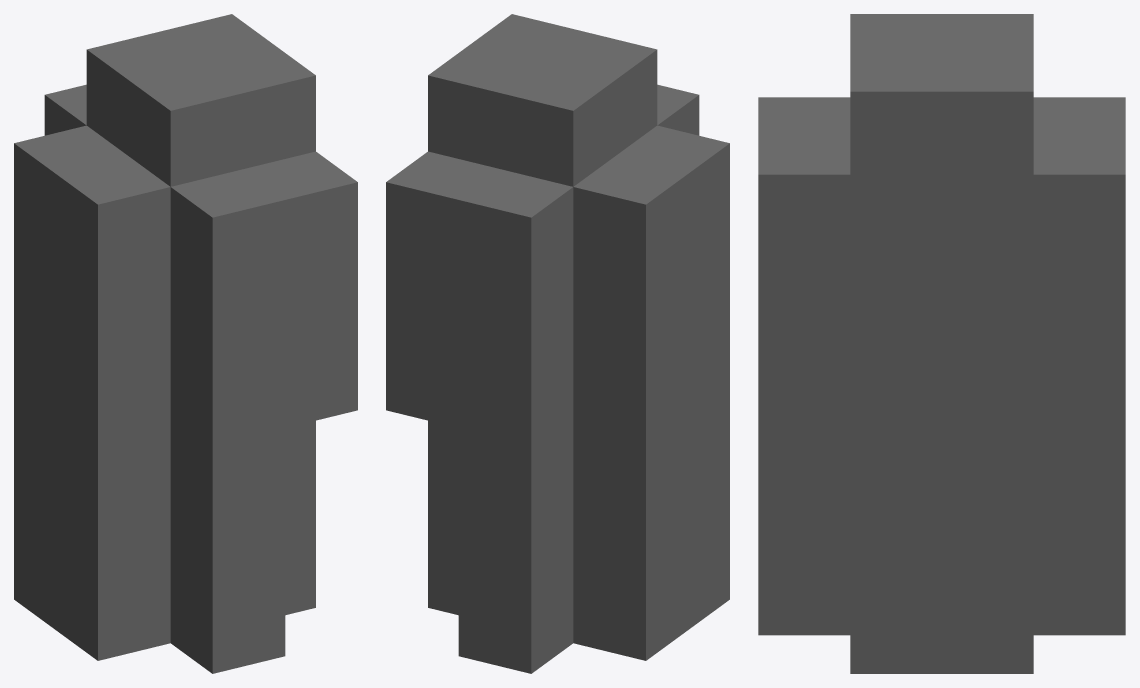
Rendered from humanoid-44-arm_med_hvy_up.obj.
3 renders of one model, left to right at view 1: azimuth 30°, elevation 25°; view 2: azimuth 150°, elevation 25°; view 3: azimuth 270°, elevation 25°, orthographic. The views are drawn at different scales.
Parts seen in each view (by area): view 1: arm_med_hvy_up; view 2: arm_med_hvy_up; view 3: arm_med_hvy_up.
Part boxes in pixels (x1=…): arm_med_hvy_up: x1=14, y1=14, x2=357, y2=673; arm_med_hvy_up: x1=386, y1=14, x2=729, y2=673; arm_med_hvy_up: x1=758, y1=14, x2=1125, y2=673.
Bounding box in the file's own units: 0.3 × 0.7 × 0.4.
Materials: 1 (1 with a texture image).
